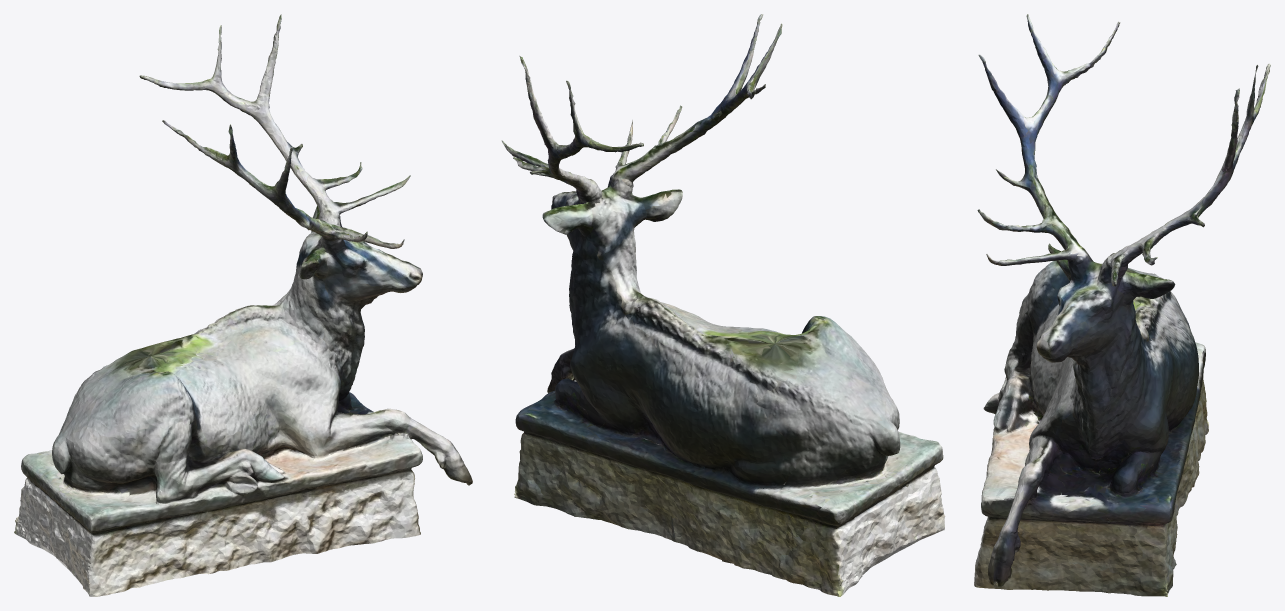
3 views of the same model, side by side, from view 1: azimuth 30°, elevation 25°; view 2: azimuth 150°, elevation 25°; view 3: azimuth 270°, elevation 25° (orthographic). The views are drawn at different scales.
Visible parts, largest first — view 1: 512.25k; view 2: 512.25k; view 3: 512.25k.
Boxes of the visible parts, left/top/right/bottom form: 512.25k: left=14, top=14, right=472, bottom=596; 512.25k: left=501, top=14, right=945, bottom=596; 512.25k: left=974, top=14, right=1270, bottom=596.
Bounding box in the file's own units: 2.42 × 2.72 × 1.5.
1 material, 1 textured.
